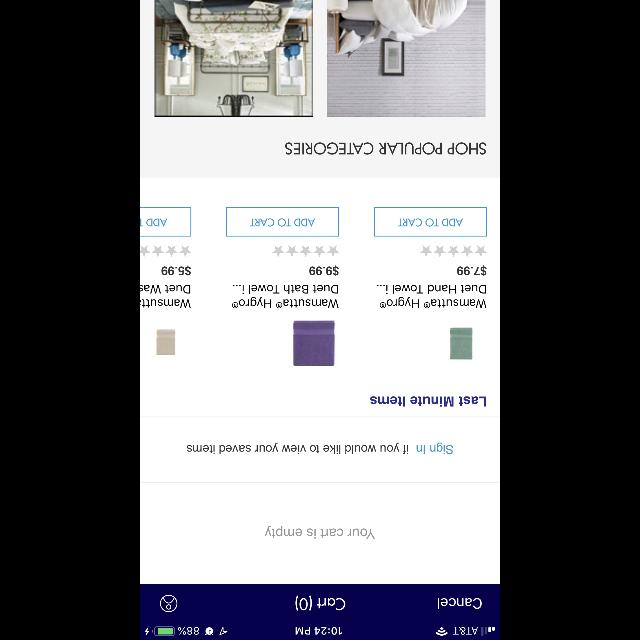icon: (272, 245, 340, 257), (419, 245, 486, 257), (140, 245, 192, 257), (160, 594, 178, 612)
image: (327, 1, 485, 118), (154, 0, 312, 116), (294, 320, 334, 366), (450, 327, 472, 359), (157, 329, 176, 355)
text: (187, 442, 453, 454), (286, 142, 487, 156), (376, 285, 486, 309), (232, 285, 338, 309), (265, 526, 375, 538), (140, 284, 192, 308), (370, 396, 486, 406), (295, 596, 345, 610), (438, 598, 482, 608), (161, 266, 191, 276), (309, 266, 339, 276), (457, 266, 487, 276)
textbutton: (225, 207, 338, 237), (374, 208, 486, 236), (140, 207, 192, 237)
uppertaskbar: (140, 626, 500, 640)
